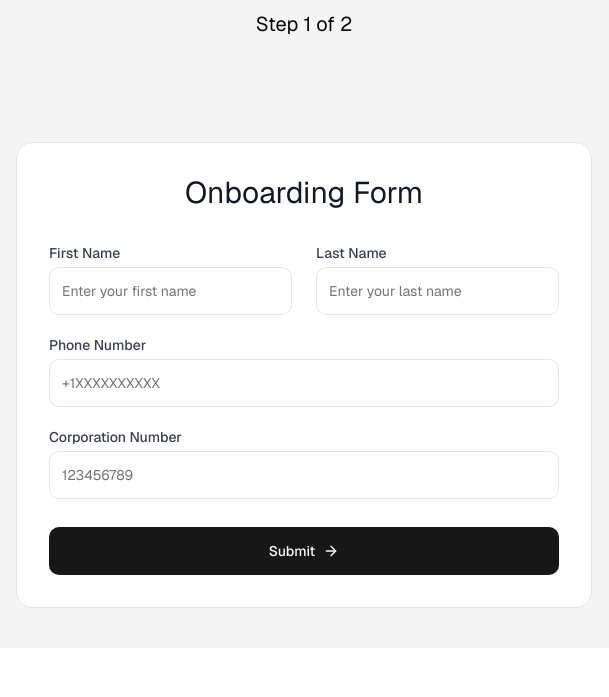
Test: OnboardingForm - Essential Tests › Essential Form Validation › should clear field errors when user starts typing
// Trigger validation error first
Click the button "Submit". click: (304, 551)
box: 49,527 -> 559,575
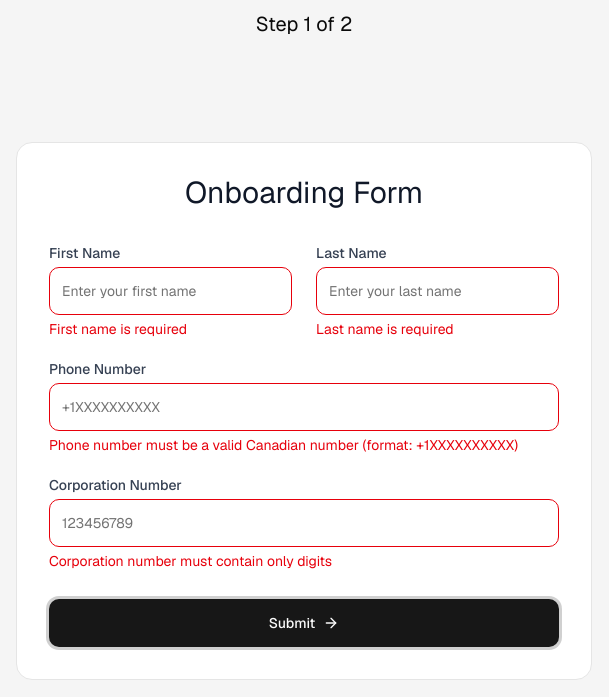
Expected: the text "First name is required" is shown, 49,320 -> 187,338
// Clear error by typing
Type "John" into the field labelled "First Name". click: (170, 291)
box: 49,267 -> 292,315
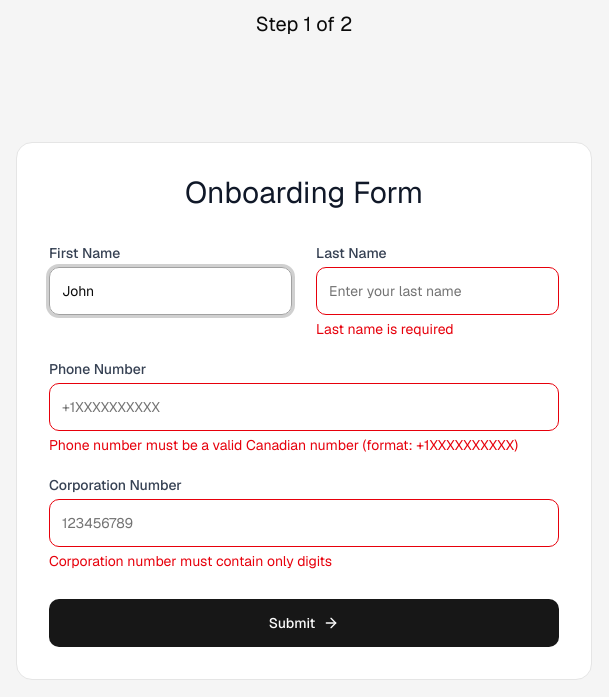
Expected: the text "First name is required" is gone
